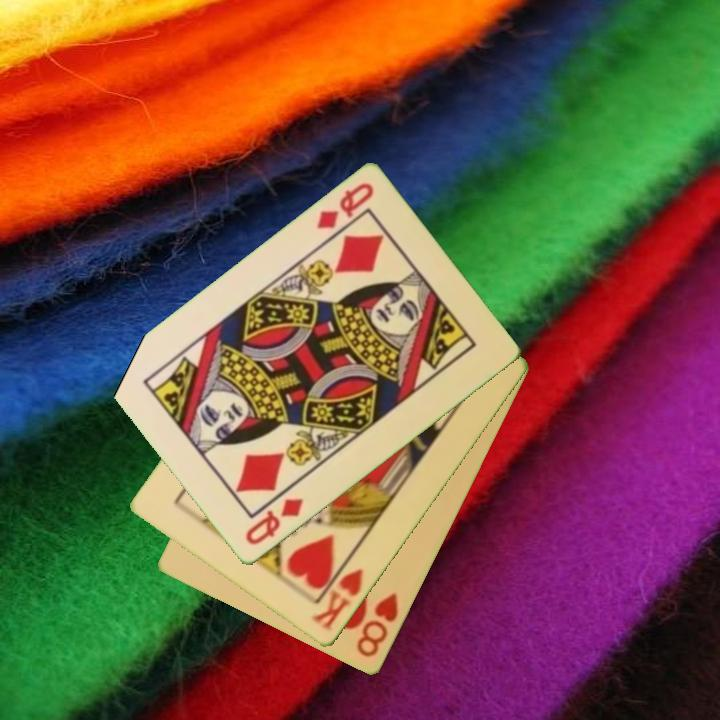8h: (353, 589, 402, 661)
Kh: (308, 553, 366, 635)
Qd: (241, 495, 307, 549), (313, 179, 377, 233)
